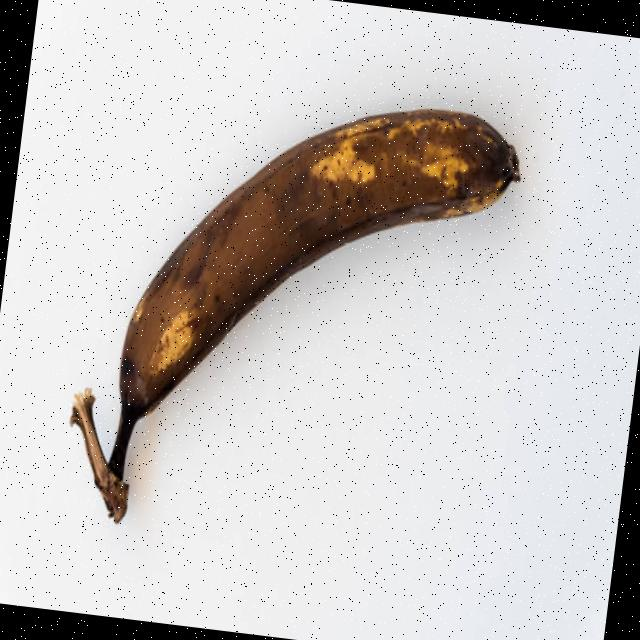Rotten: (57, 65, 528, 561)
